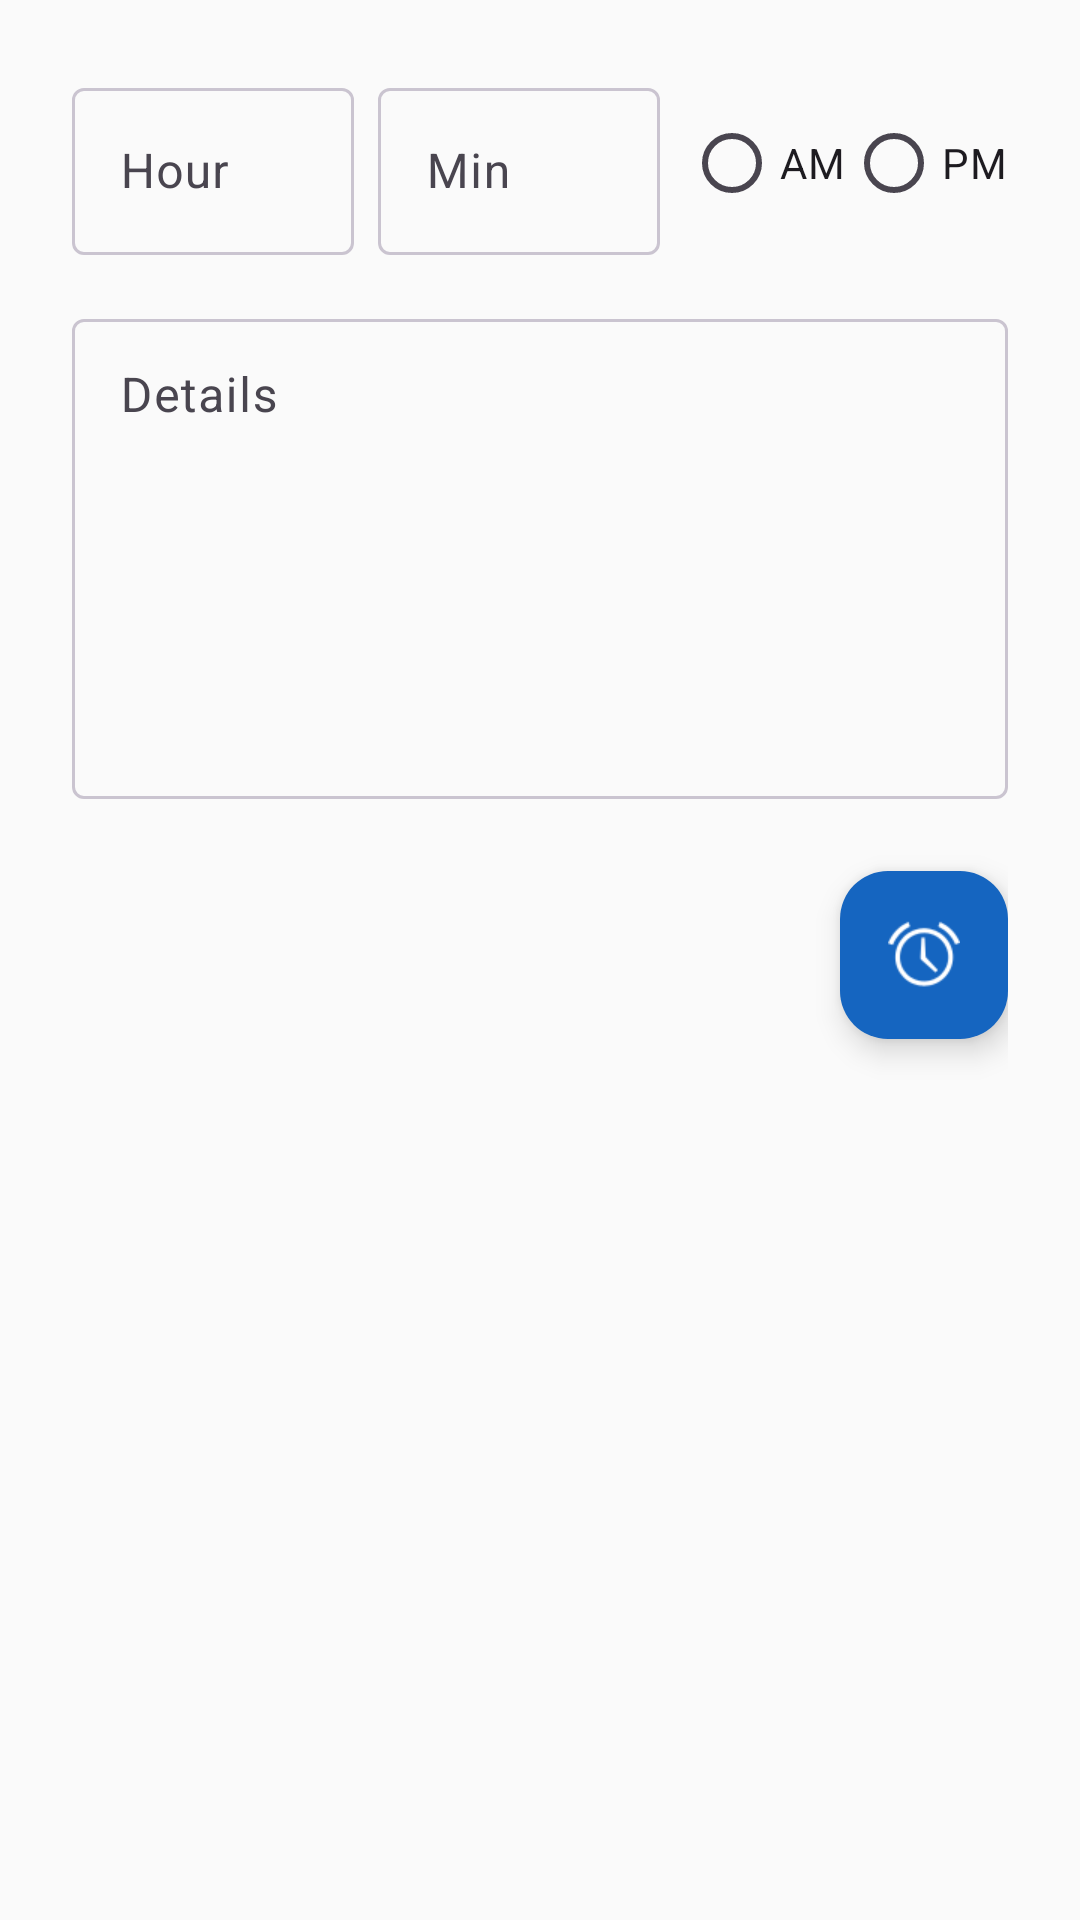

Named icons in this screenshot (1080px x 1920px) and their bounding boxes, [x1, y1, x2, y2]:
lock idle alarm: [840, 871, 1008, 1039]
